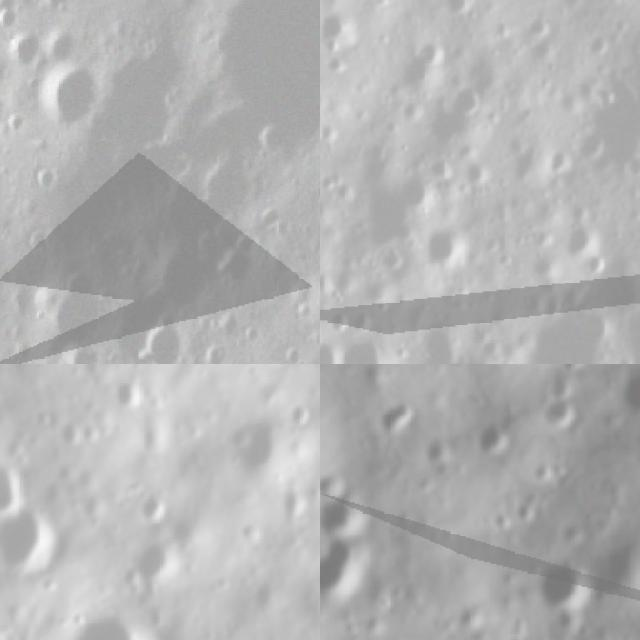crater: (196, 0, 320, 151), (569, 74, 640, 189), (356, 169, 441, 255), (31, 54, 107, 142), (522, 299, 624, 364), (30, 266, 107, 352), (0, 495, 74, 576), (227, 407, 296, 492), (49, 603, 166, 640), (320, 476, 373, 537), (320, 535, 372, 593), (538, 555, 594, 608), (136, 308, 188, 364), (394, 50, 447, 103), (421, 222, 474, 273), (0, 445, 34, 524), (136, 534, 182, 590), (374, 390, 421, 442), (559, 215, 602, 264), (320, 7, 362, 54), (8, 19, 44, 72), (470, 414, 511, 458), (134, 483, 170, 532), (535, 398, 591, 429), (335, 335, 392, 364), (447, 79, 487, 117), (408, 32, 452, 66), (450, 339, 507, 364), (581, 26, 617, 63), (541, 146, 579, 181), (116, 376, 148, 414), (60, 410, 88, 449), (422, 152, 456, 184), (461, 158, 493, 192), (0, 84, 13, 161), (0, 0, 27, 36), (622, 364, 640, 418), (439, 0, 483, 22), (283, 401, 314, 432), (320, 45, 347, 78), (526, 12, 555, 41), (320, 338, 349, 364), (311, 557, 320, 604)
